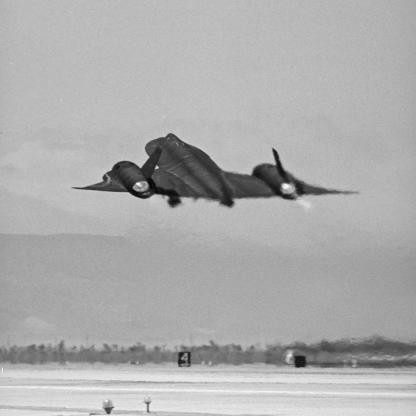SR71: (72, 134, 361, 209)
